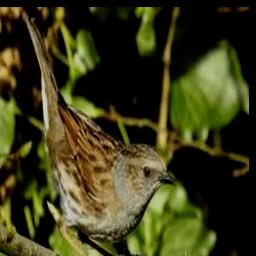Sparrow: (23, 14, 177, 256)
